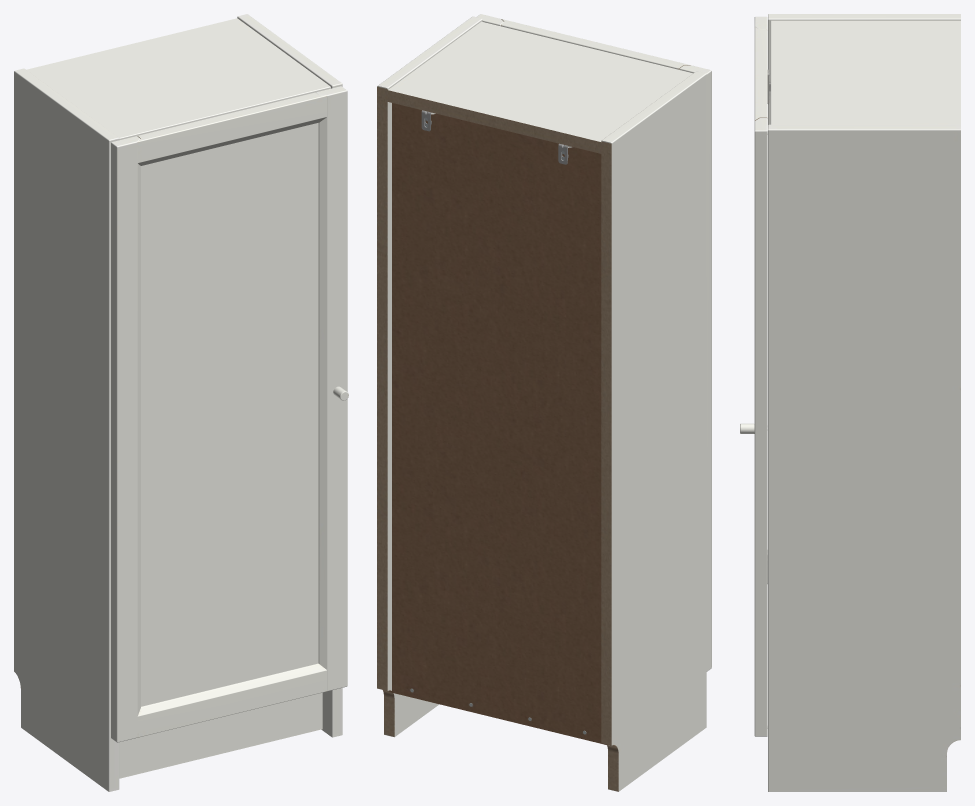
File: billy_oxberg_rega_z_drzwiami_69287392.glb
3 views of the same model, side by side, from view 1: azimuth 30°, elevation 25°; view 2: azimuth 150°, elevation 25°; view 3: azimuth 270°, elevation 25° (orthographic).
Parts seen in each view (by area): view 1: billy_oxberg_rega_z_drzwiami_69287392; view 2: billy_oxberg_rega_z_drzwiami_69287392; view 3: billy_oxberg_rega_z_drzwiami_69287392.
Part boxes in pixels (x1=…): billy_oxberg_rega_z_drzwiami_69287392: x1=14, y1=14, x2=348, y2=791; billy_oxberg_rega_z_drzwiami_69287392: x1=377, y1=14, x2=711, y2=791; billy_oxberg_rega_z_drzwiami_69287392: x1=740, y1=14, x2=960, y2=791.
Bounding box in the file's own units: 0.398 × 1.06 × 0.3202.
1 material, 1 textured.
